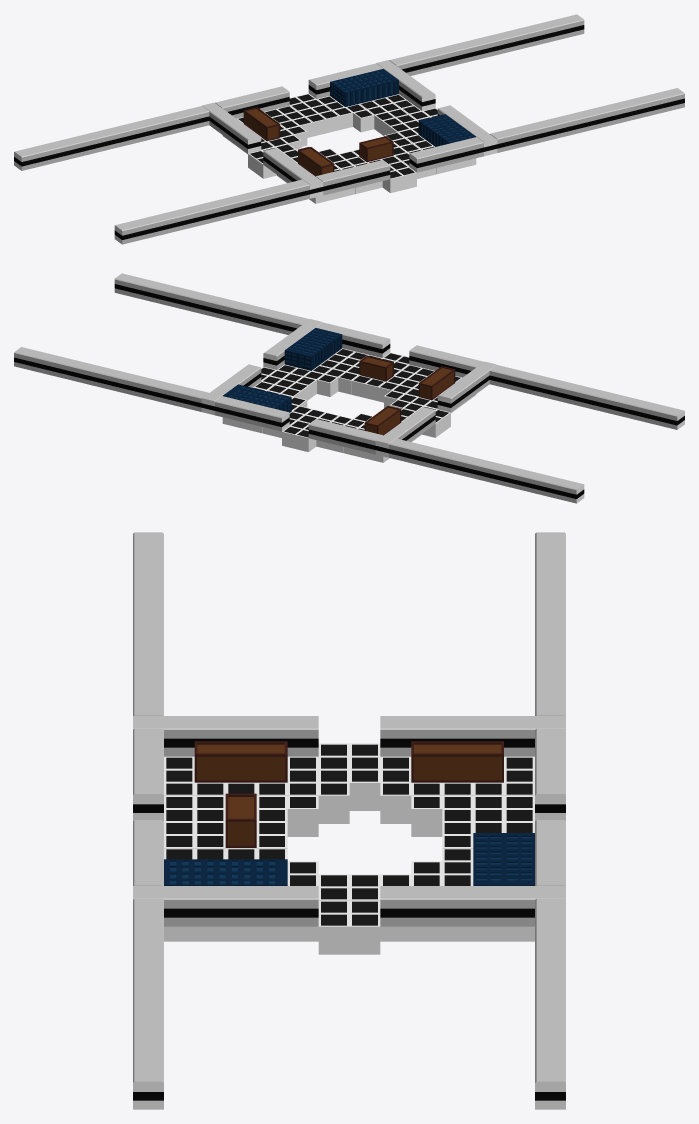
File: cargoLarge2.fbx
3 renders of one model, top to bottom at view 1: azimuth 30°, elevation 25°; view 2: azimuth 150°, elevation 25°; view 3: azimuth 270°, elevation 25°, orthographic. The views are drawn at different scales.
Visible parts, largest first — view 1: Cube.194, Cube.003, Cube.208, Cube.009, Cube.008, Cube.164, Cube.163, Cube.118, Cube.010, Cube.168, Cube.200, Cube.181 (+3 smaller); view 2: Cube.208, Cube.009, Cube.003, Cube.008, Cube.163, Cube.194, Cube.164, Cube.101, Cube.010, Cube.168, Cube.202, Cube.198 (+3 smaller); view 3: Cube.009, Cube.003, Cube.008, Cube.163, Cube.208, Cube.194, Cube.164, Cube.063, Cube.064, Cube.082, Cube.089, Cube.065 (+20 smaller).
Part boxes in pixels (<box>): Cube.194: <box>337,74,398,106</box>; Cube.003: <box>243,107,280,141</box>; Cube.208: <box>418,117,462,146</box>; Cube.009: <box>298,147,334,176</box>; Cube.008: <box>359,136,393,162</box>; Cube.164: <box>330,69,390,101</box>; Cube.163: <box>432,114,475,140</box>; Cube.118: <box>353,109,374,132</box>; Cube.010: <box>409,150,430,172</box>; Cube.168: <box>308,76,329,98</box>; Cube.200: <box>414,88,435,110</box>; Cube.181: <box>240,131,261,153</box>; Cube.208: <box>298,331,342,370</box>; Cube.009: <box>418,366,455,400</box>; Cube.003: <box>364,406,401,435</box>; Cube.008: <box>359,355,393,381</box>; Cube.163: <box>284,328,328,367</box>; Cube.194: <box>231,384,291,412</box>; Cube.164: <box>223,390,283,410</box>; Cube.101: <box>317,374,338,396</box>; Cube.010: <box>369,335,390,357</box>; Cube.168: <box>268,409,289,431</box>; Cube.202: <box>263,347,284,369</box>; Cube.198: <box>563,481,584,503</box>; Cube.009: <box>194,741,287,782</box>; Cube.003: <box>411,741,503,782</box>; Cube.008: <box>225,793,256,847</box>; Cube.163: <box>164,872,287,885</box>; Cube.208: <box>164,859,287,872</box>; Cube.194: <box>473,833,504,885</box>; Cube.164: <box>504,833,534,885</box>; Cube.063: <box>349,769,380,810</box>; Cube.064: <box>318,913,349,954</box>; Cube.082: <box>380,782,411,823</box>; Cube.089: <box>318,782,349,823</box>; Cube.065: <box>349,913,380,954</box>.
Bounding box in the file's own units: 8400 × 400 × 2800.
